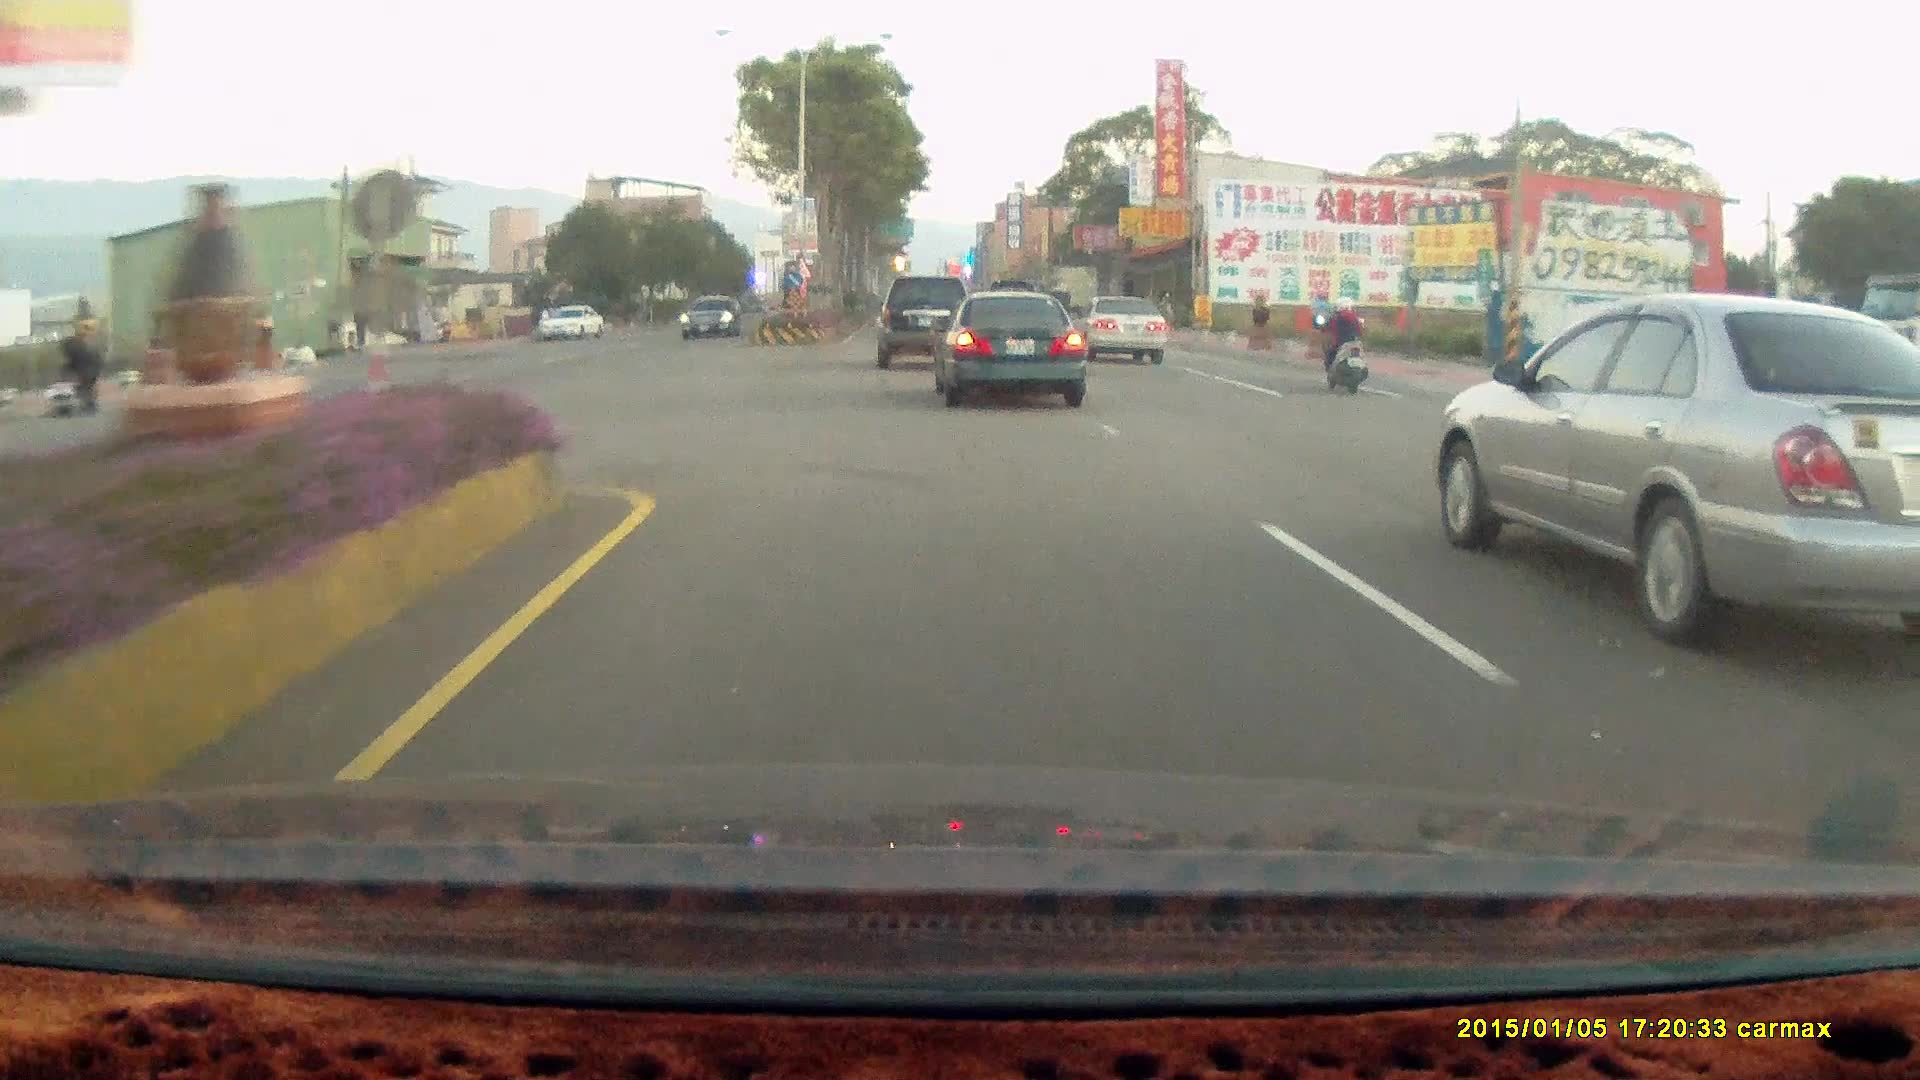pedestrian: (54, 331, 102, 416)
rider: (1307, 285, 1379, 405), (1312, 294, 1368, 393)
vehicle: (1429, 298, 1920, 660), (925, 291, 1082, 407), (939, 297, 1092, 412), (880, 274, 977, 374), (875, 274, 969, 369), (1074, 293, 1167, 362), (1076, 300, 1168, 367), (680, 295, 744, 341), (539, 306, 608, 345), (680, 295, 742, 337), (537, 304, 605, 341)
